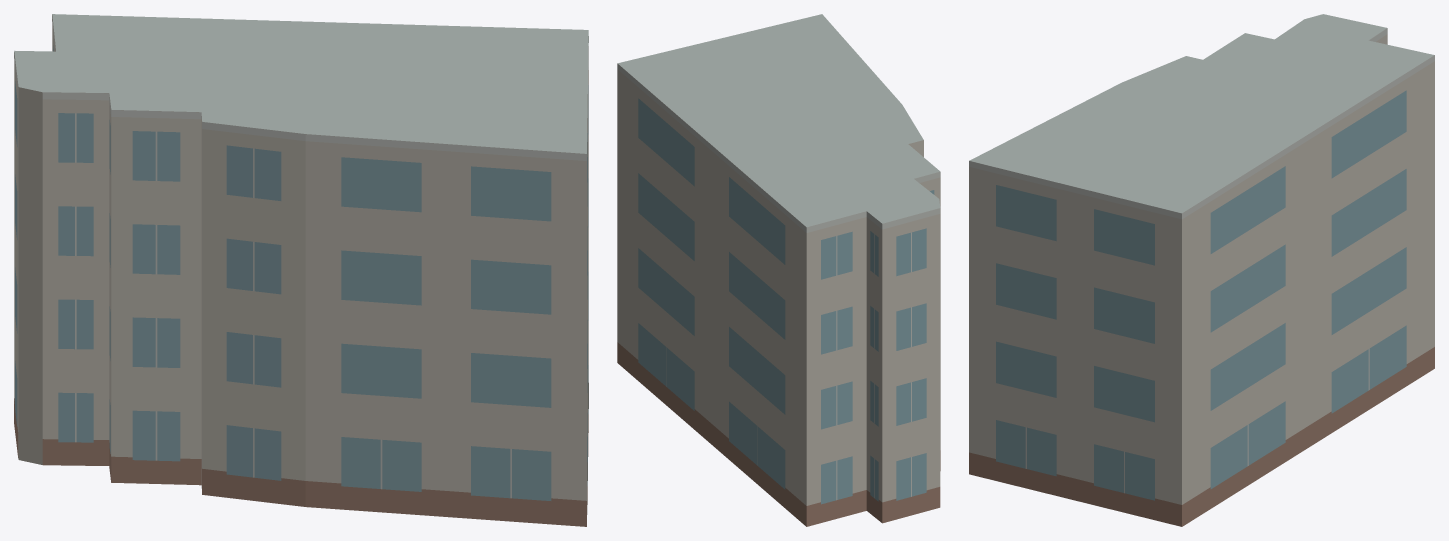
File: survey-upis-32960524.glb
3 renders of one model, left to right at view 1: azimuth 30°, elevation 25°; view 2: azimuth 150°, elevation 25°; view 3: azimuth 270°, elevation 25°, orthographic. The views are drawn at different scales.
Visible parts, largest first — view 1: survey-upis-32960524.tmp; view 2: survey-upis-32960524.tmp; view 3: survey-upis-32960524.tmp.
Boxes of the visible parts, x1,y1,x2,y2 form: survey-upis-32960524.tmp: [14, 14, 588, 526]; survey-upis-32960524.tmp: [617, 14, 940, 526]; survey-upis-32960524.tmp: [969, 14, 1434, 526].
Bounding box in the file's own units: 17.34 × 12.7 × 17.11.
